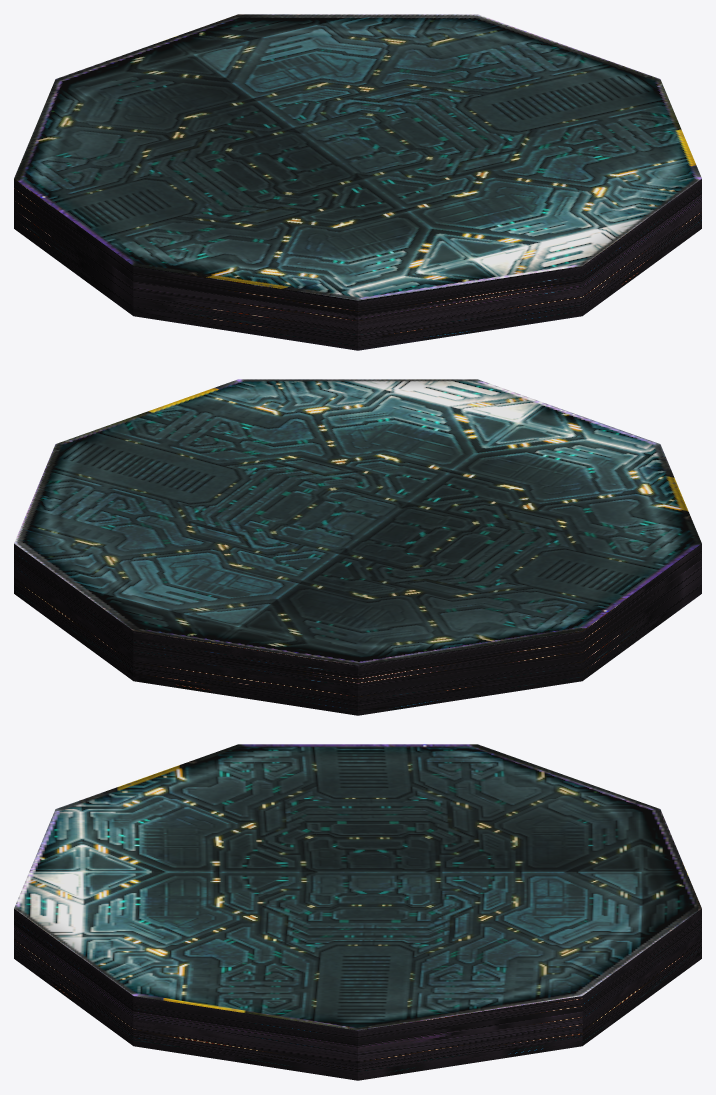
Rendered from Polyplatform.fbx.
3 renders of one model, top to bottom at view 1: azimuth 30°, elevation 25°; view 2: azimuth 150°, elevation 25°; view 3: azimuth 270°, elevation 25°, orthographic.
Visible parts, largest first — view 1: pCylinder1; view 2: pCylinder1; view 3: pCylinder1.
Part boxes in pixels (x1,y1,x2,y2): pCylinder1: [14, 14, 701, 350]; pCylinder1: [14, 379, 701, 715]; pCylinder1: [14, 744, 701, 1080].
Size of the model in its own units: 298 by 24.36 by 302.
1 material, 1 textured.
